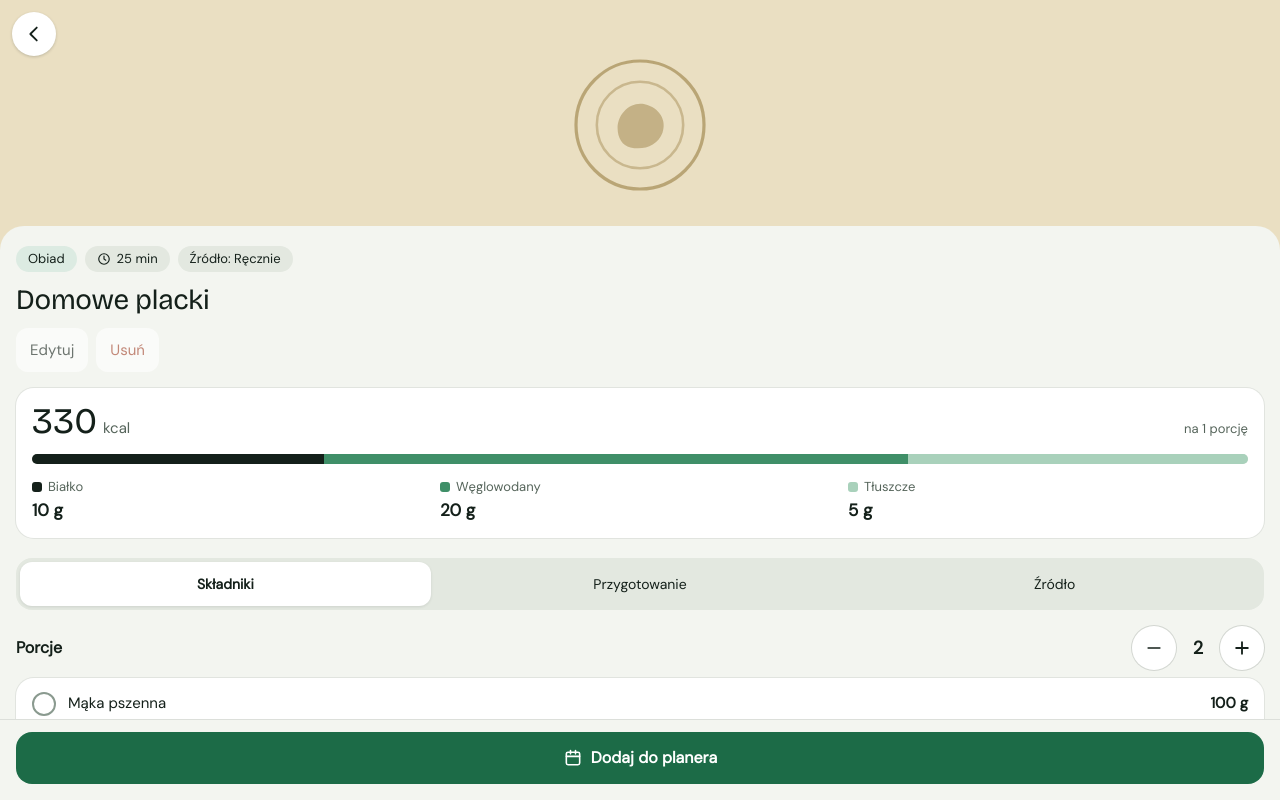
it: potwierdzenie ma właściwy tekst, pułapkę fokusu i Anuluj/Escape nie usuwa
The width and height of the screenshot is (1280, 800).
Click the button "Usuń" at coordinates (128, 350), box [96, 328, 159, 372]
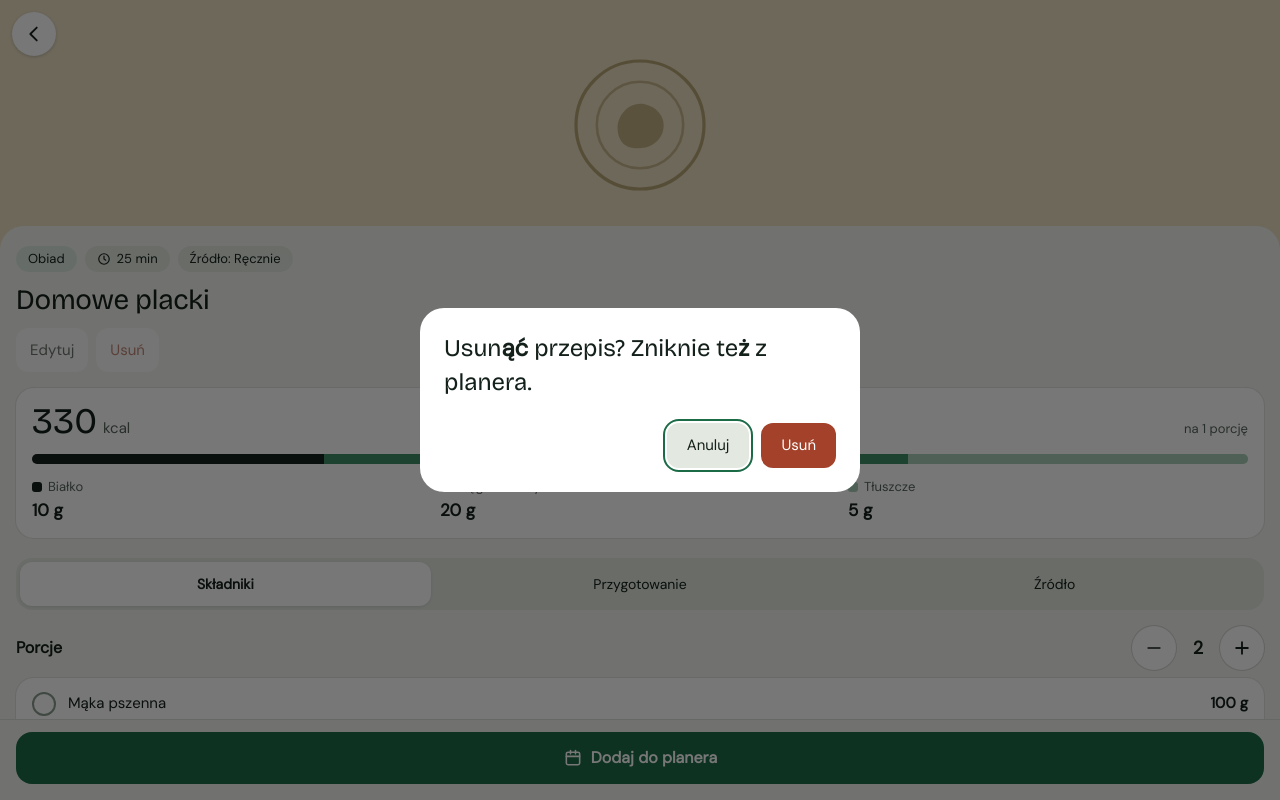
Check: the heading reads "Usunąć przepis? Zniknie też z planera.", box [444, 334, 767, 396]
Press Tab in the button "Anuluj", box [667, 423, 750, 468]
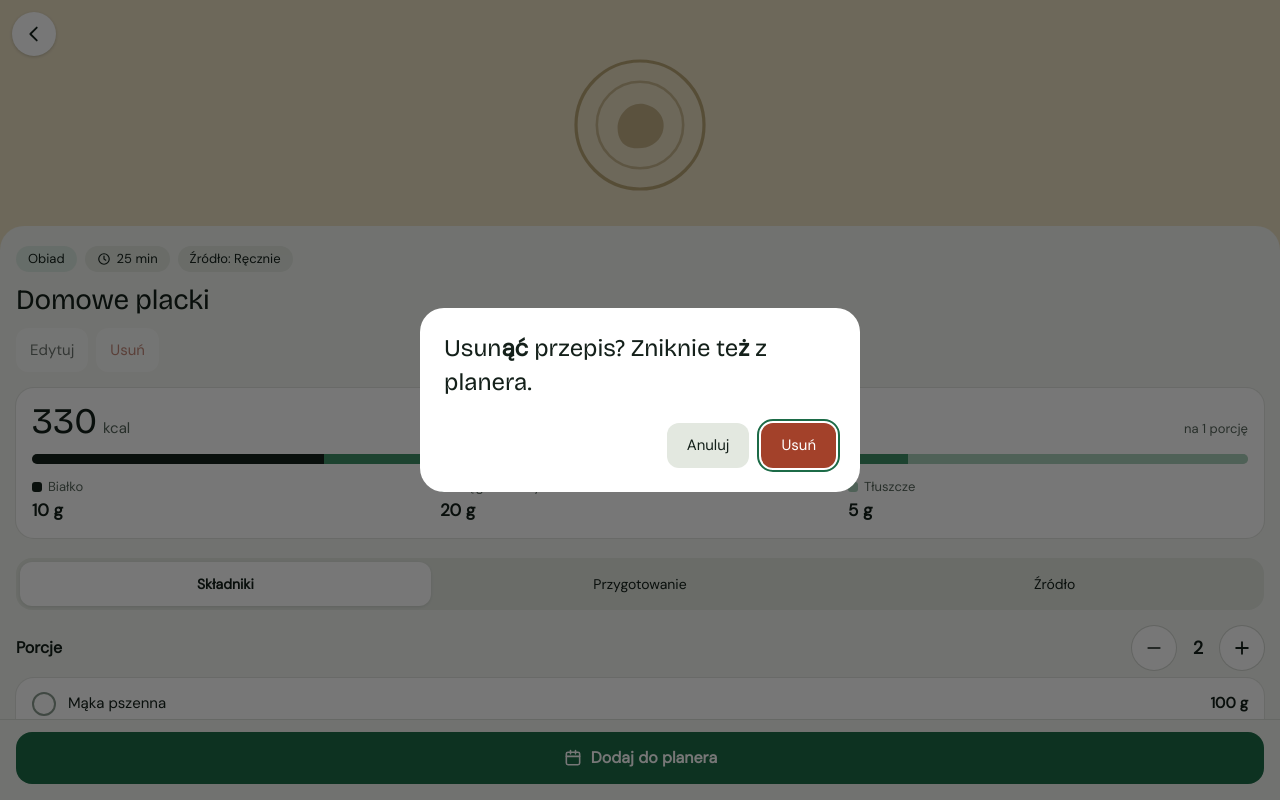
Click the button "Anuluj" at coordinates (708, 446), box [667, 423, 750, 468]
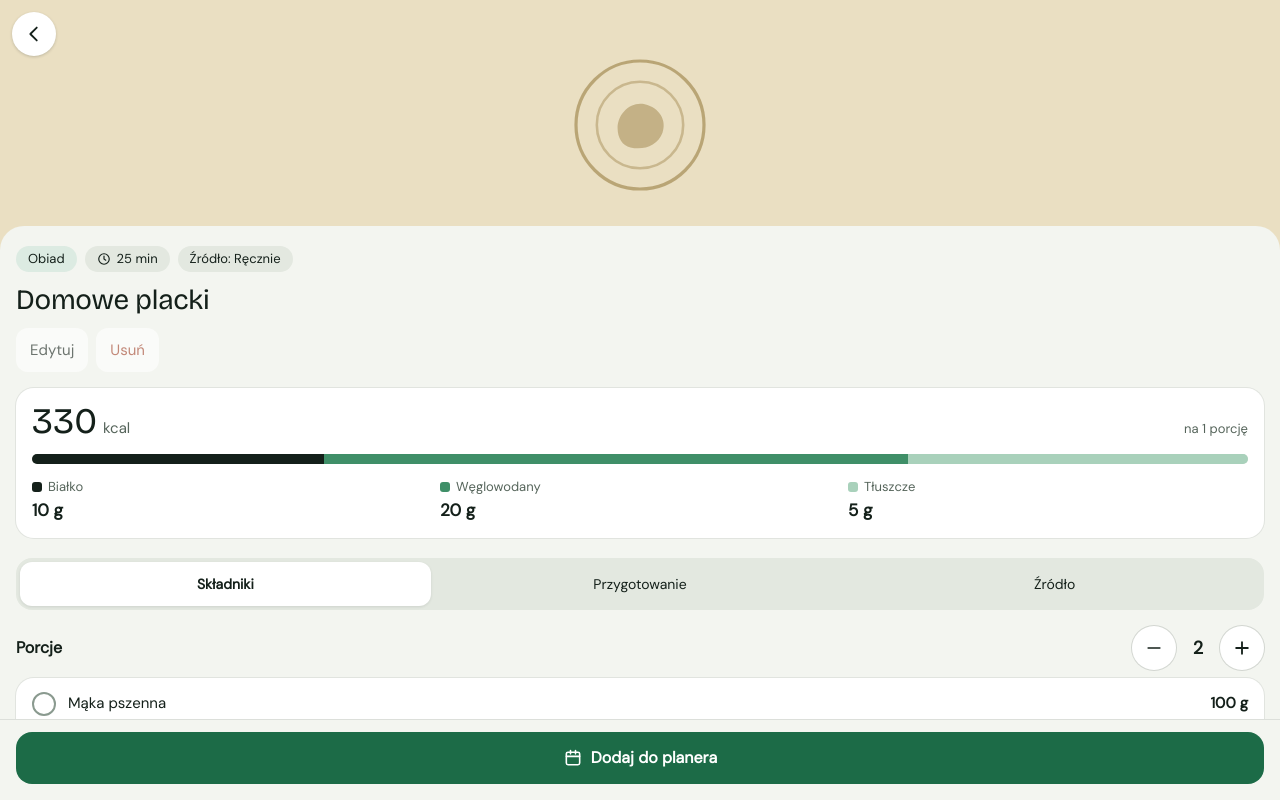
Check: the dialog is gone
Click the button "Usuń" at coordinates (128, 350), box [96, 328, 159, 372]
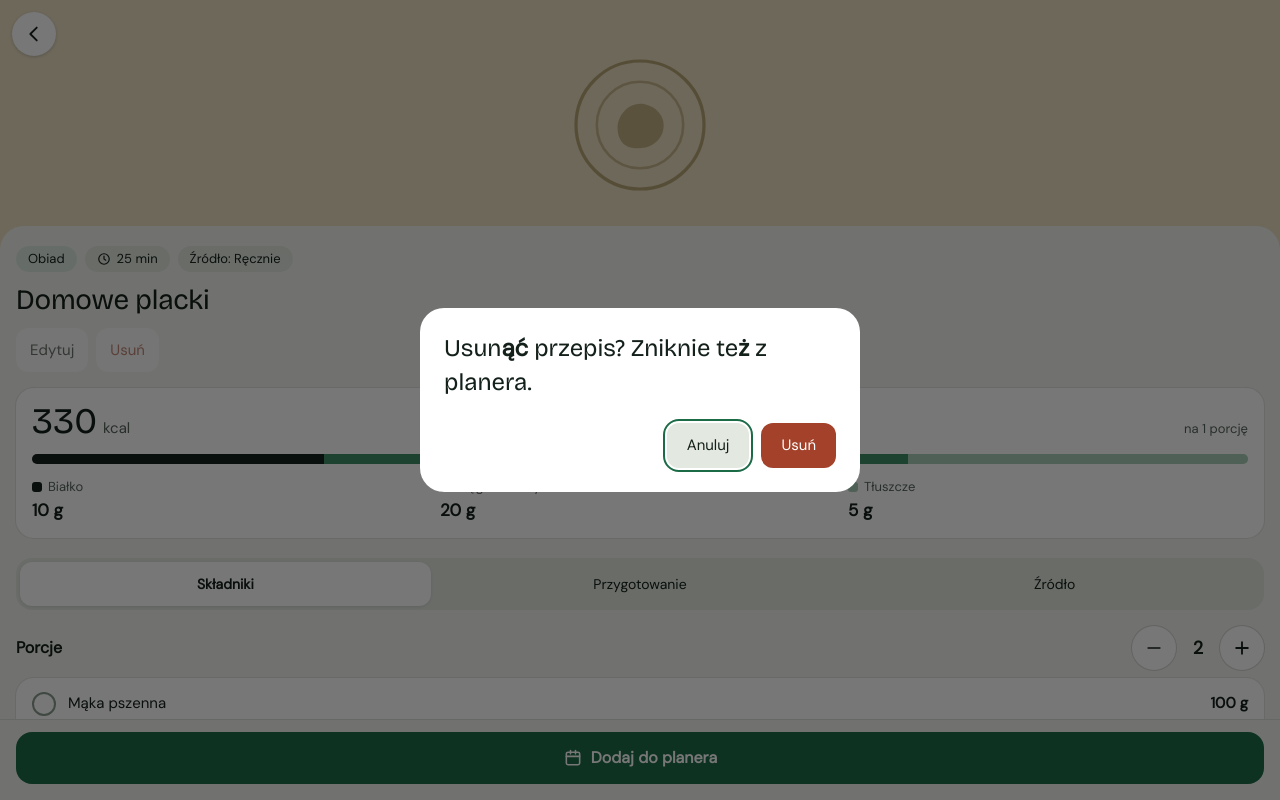
Press Escape in the dialog, box [420, 308, 860, 492]
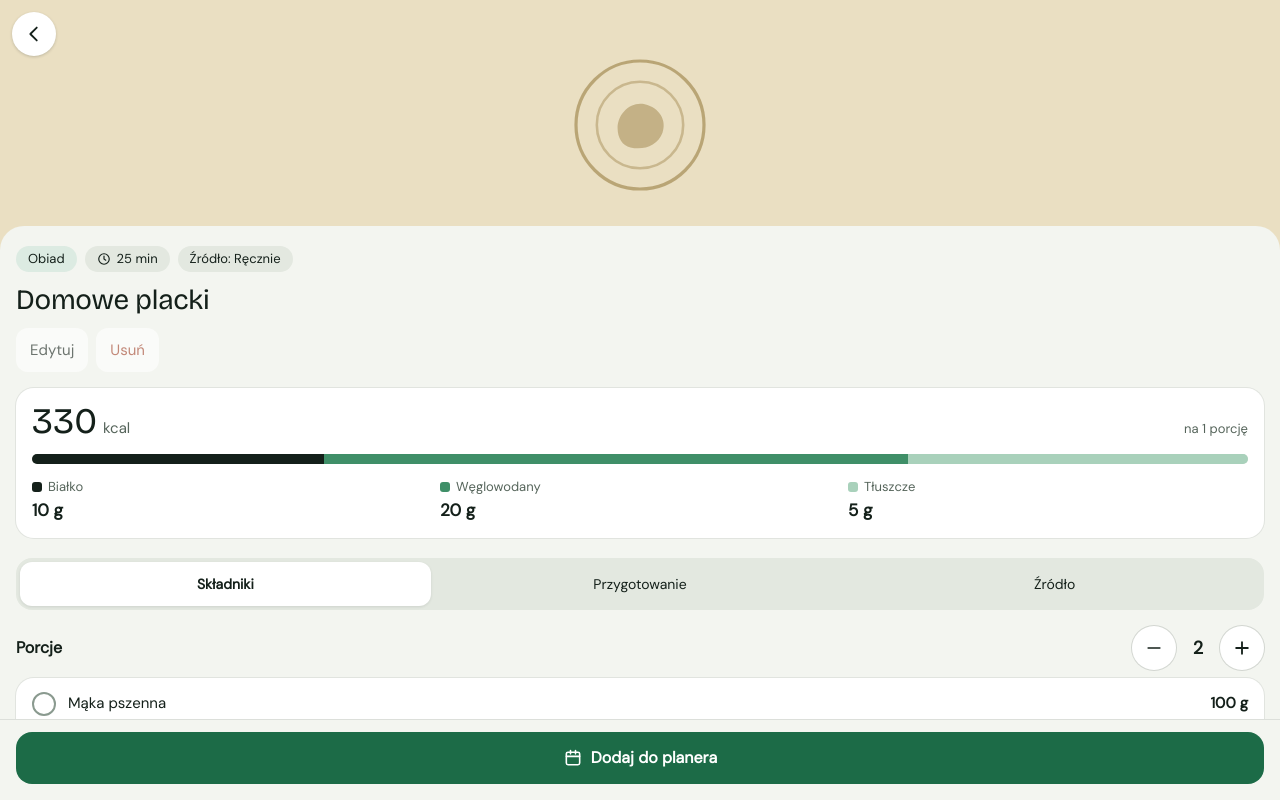
Check: the dialog is gone
